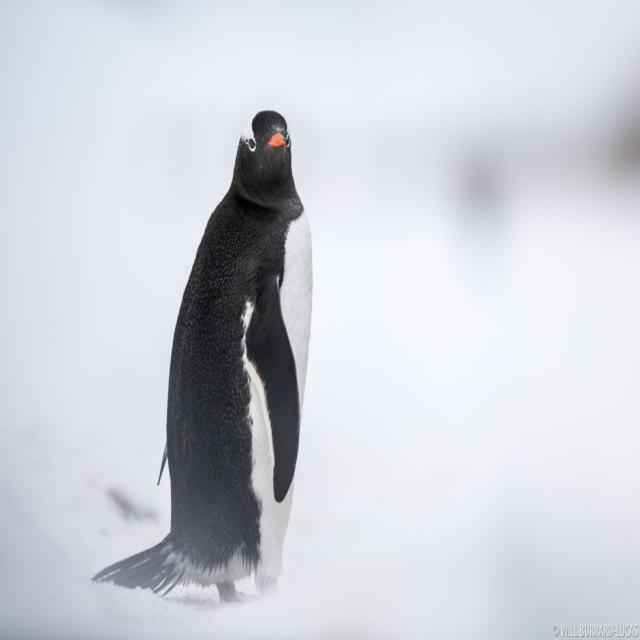Penguins: (151, 86, 325, 604)
